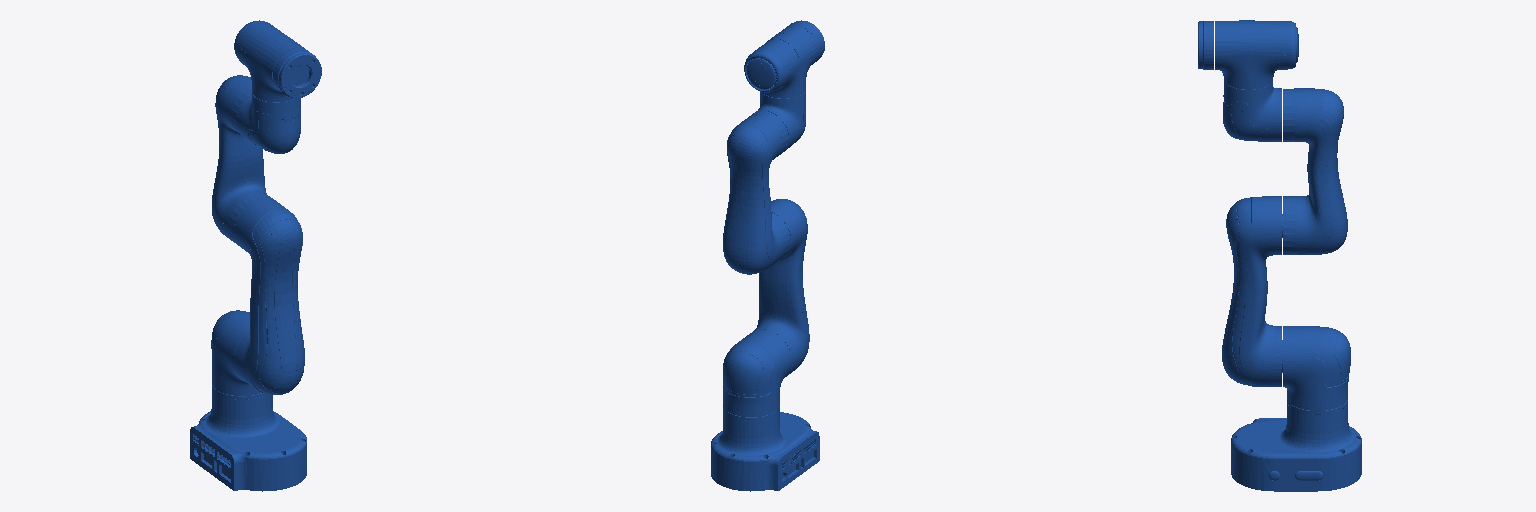
robot.urdf — ED6-URDF-0102.SLDASM:
<?xml version="1.0" encoding="utf-8"?>
<!-- This URDF was automatically created by SolidWorks to URDF Exporter! Originally created by Stephen Brawner (brawner@gmail.com) 
     Commit Version: 1.6.0-1-g15f4949  Build Version: 1.6.7594.29634
     For more information, please see http://wiki.ros.org/sw_urdf_exporter -->
<robot
  name="ED6-URDF-0102.SLDASM">
  <link
    name="J0">
    <inertial>
      <origin
        xyz="-0.00334759434427351 -0.0209390238905166 0.0387483537032058"
        rpy="0 0 0" />
      <mass
        value="1.1813692823373" />
      <inertia
        ixx="0.00273389467276804"
        ixy="-3.25396607614629E-06"
        ixz="-1.87935894542668E-05"
        iyy="0.00173943145723566"
        iyz="-0.000283484372676081"
        izz="0.00293773261958491" />
    </inertial>
    <visual>
      <origin
        xyz="0 0 0"
        rpy="0 0 0" />
      <geometry>
        <mesh
          filename="meshes/J0.STL" />
      </geometry>
      <material
        name="">
        <color
          rgba="0.2 0.4 0.694117647058824 1" />
      </material>
    </visual>
    <collision>
      <origin
        xyz="0 0 0"
        rpy="0 0 0" />
      <geometry>
        <mesh
          filename="meshes/J0.STL" />
      </geometry>
    </collision>
  </link>
  <link
    name="J1">
    <inertial>
      <origin
        xyz="-0.00223938232983684 -0.00505848952695875 -0.0112264428251495"
        rpy="0 0 0" />
      <mass
        value="0.543850309343789" />
      <inertia
        ixx="0.000493506487598564"
        ixy="-1.43110037312101E-08"
        ixz="-3.69284056830368E-09"
        iyy="0.000524748621706922"
        iyz="0.000128962212384673"
        izz="0.000398748315762055" />
    </inertial>
    <visual>
      <origin
        xyz="0 0 0"
        rpy="0 0 0" />
      <geometry>
        <mesh
          filename="meshes/J1.STL" />
      </geometry>
      <material
        name="">
        <color
          rgba="0.2 0.4 0.694117647058824 1" />
      </material>
    </visual>
    <collision>
      <origin
        xyz="0 0 0"
        rpy="0 0 0" />
      <geometry>
        <mesh
          filename="meshes/J1.STL" />
      </geometry>
    </collision>
  </link>
  <joint
    name="J1"
    type="revolute">
    <origin
      xyz="0 0 0.167"
      rpy="0 0 0" />
    <parent
      link="J0" />
    <child
      link="J1" />
    <axis
      xyz="0 0 1" />
    <limit
      lower="-6.28"
      upper="6.28"
      effort="100"
      velocity="10" />
  </joint>
  <link
    name="J2">
    <inertial>
      <origin
        xyz="-0.0911137227582635 -0.00224100281234522 0.083106254226205"
        rpy="0 0 0" />
      <mass
        value="0.94663465861017" />
      <inertia
        ixx="0.000484418205499611"
        ixy="5.96314159445903E-08"
        ixz="-7.09180354011426E-05"
        iyy="0.00631121999816965"
        iyz="2.87807867816861E-09"
        izz="0.00647835522875632" />
    </inertial>
    <visual>
      <origin
        xyz="0 0 0"
        rpy="0 0 0" />
      <geometry>
        <mesh
          filename="meshes/J2.STL" />
      </geometry>
      <material
        name="">
        <color
          rgba="0.2 0.4 0.694117647058824 1" />
      </material>
    </visual>
    <collision>
      <origin
        xyz="0 0 0"
        rpy="0 0 0" />
      <geometry>
        <mesh
          filename="meshes/J2.STL" />
      </geometry>
    </collision>
  </link>
  <joint
    name="J2"
    type="revolute">
    <origin
      xyz="0 0 0"
      rpy="1.5708 1.5708 0" />
    <parent
      link="J1" />
    <child
      link="J2" />
    <axis
      xyz="0 0 1" />
    <limit
      lower="-2.35"
      upper="2.35"
      effort="0"
      velocity="0" />
  </joint>
  <link
    name="J3">
    <inertial>
      <origin
        xyz="-0.0725131785654824 -0.00224473356266773 0.0041887763433246"
        rpy="0 0 0" />
      <mass
        value="0.831391876308613" />
      <inertia
        ixx="0.000460682533839593"
        ixy="-2.77543515366555E-09"
        ixz="1.3771438223127E-05"
        iyy="0.0044719847630167"
        iyz="-1.48642816276597E-08"
        izz="0.00453981257930233" />
    </inertial>
    <visual>
      <origin
        xyz="0 0 0"
        rpy="0 0 0" />
      <geometry>
        <mesh
          filename="meshes/J3.STL" />
      </geometry>
      <material
        name="">
        <color
          rgba="0.2 0.4 0.694117647058824 1" />
      </material>
    </visual>
    <collision>
      <origin
        xyz="0 0 0"
        rpy="0 0 0" />
      <geometry>
        <mesh
          filename="meshes/J3.STL" />
      </geometry>
    </collision>
  </link>
  <joint
    name="J3"
    type="revolute">
    <origin
      xyz="-0.189 0 0"
      rpy="0 0 0" />
    <parent
      link="J2" />
    <child
      link="J3" />
    <axis
      xyz="0 0 1" />
    <limit
      lower="-2.7"
      upper="2.7"
      effort="0"
      velocity="0" />
  </joint>
  <link
    name="J4">
    <inertial>
      <origin
        xyz="0.00224203884382412 -0.0108943556784513 -0.00894003659973736"
        rpy="0 0 0" />
      <mass
        value="0.305565661686187" />
      <inertia
        ixx="0.000207976720434355"
        ixy="5.92803117356426E-09"
        ixz="7.67238306734234E-09"
        iyy="0.00017743289772098"
        iyz="6.11984514154454E-05"
        izz="0.000207310941843897" />
    </inertial>
    <visual>
      <origin
        xyz="0 0 0"
        rpy="0 0 0" />
      <geometry>
        <mesh
          filename="meshes/J4.STL" />
      </geometry>
      <material
        name="">
        <color
          rgba="0.2 0.4 0.694117647058824 1" />
      </material>
    </visual>
    <collision>
      <origin
        xyz="0 0 0"
        rpy="0 0 0" />
      <geometry>
        <mesh
          filename="meshes/J4.STL" />
      </geometry>
    </collision>
  </link>
  <joint
    name="J4"
    type="revolute">
    <origin
      xyz="-0.16 0 0.091548"
      rpy="0 0 -1.5708" />
    <parent
      link="J3" />
    <child
      link="J4" />
    <axis
      xyz="0 0 1" />
    <limit
      lower="-2.79"
      upper="2.79"
      effort="0"
      velocity="0" />
  </joint>
  <link
    name="J5">
    <inertial>
      <origin
        xyz="0.00226378266402783 -0.00793808933913548 -0.00540031667555441"
        rpy="0 0 0" />
      <mass
        value="0.418471017321059" />
      <inertia
        ixx="0.000325103052006729"
        ixy="2.6514033220033E-07"
        ixz="1.4929268879961E-07"
        iyy="0.000234160333195713"
        iyz="-5.12042022845616E-05"
        izz="0.000322590643556103" />
    </inertial>
    <visual>
      <origin
        xyz="0 0 0"
        rpy="0 0 0" />
      <geometry>
        <mesh
          filename="meshes/J5.STL" />
      </geometry>
      <material
        name="">
        <color
          rgba="0.2 0.4 0.694117647058824 1" />
      </material>
    </visual>
    <collision>
      <origin
        xyz="0 0 0"
        rpy="0 0 0" />
      <geometry>
        <mesh
          filename="meshes/J5.STL" />
      </geometry>
    </collision>
  </link>
  <joint
    name="J5"
    type="revolute">
    <origin
      xyz="0 -0.101 0"
      rpy="1.5708 0 0" />
    <parent
      link="J4" />
    <child
      link="J5" />
    <axis
      xyz="0 0 1" />
    <limit
      lower="-3.01"
      upper="3.01"
      effort="0"
      velocity="0" />
  </joint>
  <link
    name="J6">
    <inertial>
      <origin
        xyz="0.00208542339746718 -0.00139027276727099 -0.0114563052571122"
        rpy="0 0 0" />
      <mass
        value="0.0614394481062491" />
      <inertia
        ixx="1.87536296566105E-05"
        ixy="-3.52672058653186E-11"
        ixz="-4.33744949193764E-08"
        iyy="1.90910059779666E-05"
        iyz="1.62610384566504E-08"
        izz="3.37062772491755E-05" />
    </inertial>
    <visual>
      <origin
        xyz="0 0 0"
        rpy="0 0 0" />
      <geometry>
        <mesh
          filename="meshes/J6.STL" />
      </geometry>
      <material
        name="">
        <color
          rgba="0.2 0.4 0.694117647058824 1" />
      </material>
    </visual>
    <collision>
      <origin
        xyz="0 0 0"
        rpy="0 0 0" />
      <geometry>
        <mesh
          filename="meshes/J6.STL" />
      </geometry>
    </collision>
  </link>
  <joint
    name="J6"
    type="revolute">
    <origin
      xyz="0 0.065 0"
      rpy="-1.5708 0 0" />
    <parent
      link="J5" />
    <child
      link="J6" />
    <axis
      xyz="0 0 1" />
    <limit
      lower="-6.28"
      upper="6.28"
      effort="0"
      velocity="0" />
  </joint>
</robot>

--- What the picture shows (computed from the rendered views, not written in the file) ---
3 views of the same robot in one strip: view 1: azimuth 30°, elevation 25°; view 2: azimuth 150°, elevation 25°; view 3: azimuth 270°, elevation 25° (orthographic).
Robot: ED6-URDF-0102.SLDASM — 7 links, 6 joints (6 revolute); root link J0; default pose: every joint at zero.
Visible links, largest first — view 1: J2, J0, J3, J5, J4, J1, J6; view 2: J3, J0, J2, J1, J5, J4; view 3: J0, J2, J3, J1, J5, J4, J6.
Link boxes in pixels (x1,y1,x2,y2): J2: (234, 198, 304, 394); J0: (190, 385, 306, 491); J3: (212, 75, 275, 245); J5: (234, 20, 304, 101); J4: (237, 94, 300, 153); J1: (211, 310, 261, 395); J6: (273, 48, 321, 97); J3: (723, 111, 790, 274); J0: (711, 405, 819, 491); J2: (754, 199, 809, 376); J1: (723, 329, 791, 416); J5: (744, 25, 818, 98); J4: (753, 91, 805, 151); J0: (1231, 400, 1361, 491); J2: (1222, 196, 1282, 386); J3: (1283, 88, 1347, 254); J1: (1282, 326, 1350, 410); J5: (1215, 20, 1298, 89); J4: (1223, 82, 1281, 141); J6: (1198, 21, 1213, 69).
Size in the robot's own frame: 0.122 by 0.2146 by 0.6507 metres.
7 mesh visuals loaded from 7 distinct referenced files (7 binary STL).
